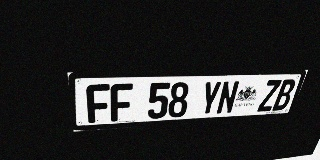5: (148, 82, 170, 119)
8: (167, 82, 191, 118)
B: (272, 79, 297, 111)
F: (86, 84, 110, 123), (110, 83, 133, 122)
N: (216, 81, 240, 115)
Y: (198, 81, 222, 116)
Z: (257, 80, 282, 112)
